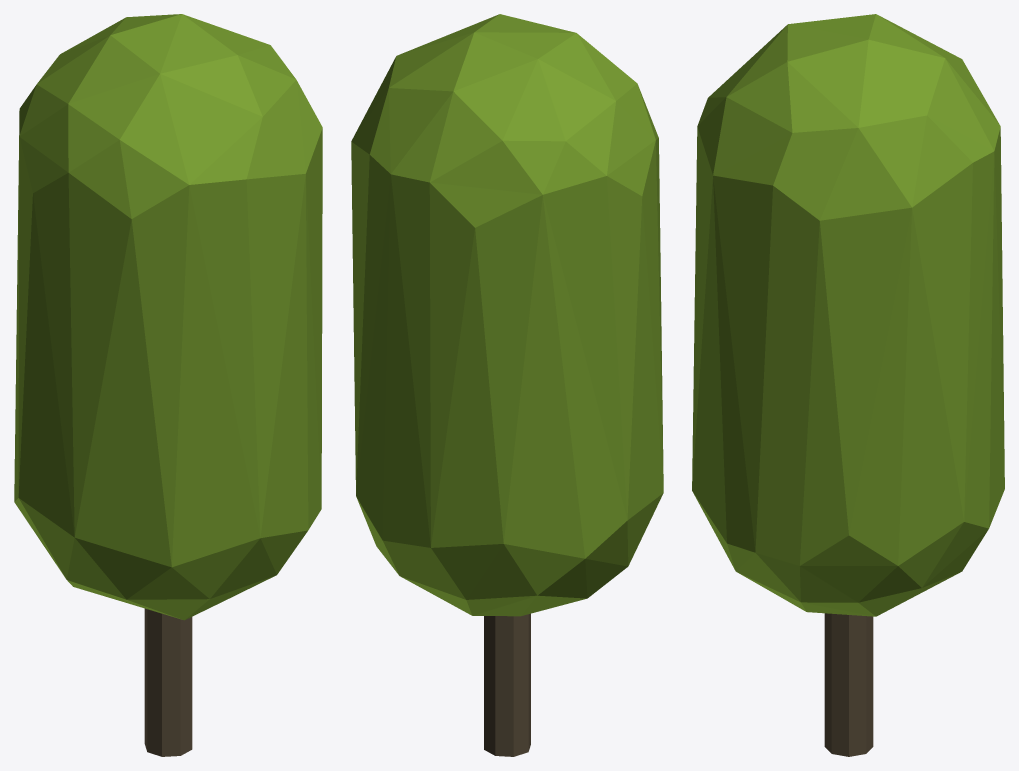
File: tree type 1 (1).fbx
3 renders of one model, left to right at view 1: azimuth 30°, elevation 25°; view 2: azimuth 150°, elevation 25°; view 3: azimuth 270°, elevation 25°, orthographic.
Parts seen in each view (by area): view 1: Cylinder.065_Cylinder.007, Cylinder.065_Cylinder.003, Cylinder.065_Cylinder.009, Cylinder.065_Cylinder.006, Cylinder.065_Cylinder.005, Cylinder.065_Cylinder.004, Cylinder.065_Cylinder.008, Cylinder.065_Cylinder.001, Cylinder.065_Cylinder.002; view 2: Cylinder.065_Cylinder.007, Cylinder.065_Cylinder.003, Cylinder.065_Cylinder.009, Cylinder.065_Cylinder.006, Cylinder.065_Cylinder.005, Cylinder.065_Cylinder.004, Cylinder.065_Cylinder.008, Cylinder.065_Cylinder.001, Cylinder.065_Cylinder.002; view 3: Cylinder.065_Cylinder.009, Cylinder.065_Cylinder.008, Cylinder.065_Cylinder.004, Cylinder.065_Cylinder.003, Cylinder.065_Cylinder.001, Cylinder.065_Cylinder.002, Cylinder.065_Cylinder.007.
Part boxes in pixels (x1,y1,x2,y2): Cylinder.065_Cylinder.007: (14,334,276,599); Cylinder.065_Cylinder.003: (19,14,262,218); Cylinder.065_Cylinder.009: (189,128,322,429); Cylinder.065_Cylinder.006: (16,236,237,536); Cylinder.065_Cylinder.005: (17,135,211,311); Cylinder.065_Cylinder.004: (182,14,322,179); Cylinder.065_Cylinder.008: (260,410,321,574); Cylinder.065_Cylinder.001: (144,628,192,756); Cylinder.065_Cylinder.002: (67,575,275,640); Cylinder.065_Cylinder.007: (400,355,663,599); Cylinder.065_Cylinder.003: (430,14,658,227); Cylinder.065_Cylinder.009: (351,142,474,430); Cylinder.065_Cylinder.006: (447,243,663,519); Cylinder.065_Cylinder.005: (465,138,660,313); Cylinder.065_Cylinder.004: (351,14,498,182); Cylinder.065_Cylinder.008: (355,417,430,575); Cylinder.065_Cylinder.001: (484,629,530,756); Cylinder.065_Cylinder.002: (401,576,586,640); Cylinder.065_Cylinder.009: (693,127,1003,478); Cylinder.065_Cylinder.008: (692,383,1004,616); Cylinder.065_Cylinder.004: (697,39,1000,220); Cylinder.065_Cylinder.003: (697,14,999,125); Cylinder.065_Cylinder.001: (824,628,873,756); Cylinder.065_Cylinder.002: (824,613,873,634); Cylinder.065_Cylinder.007: (692,373,1004,488).
Bounding box in the file's own units: 63.06 × 160 × 63.21.
